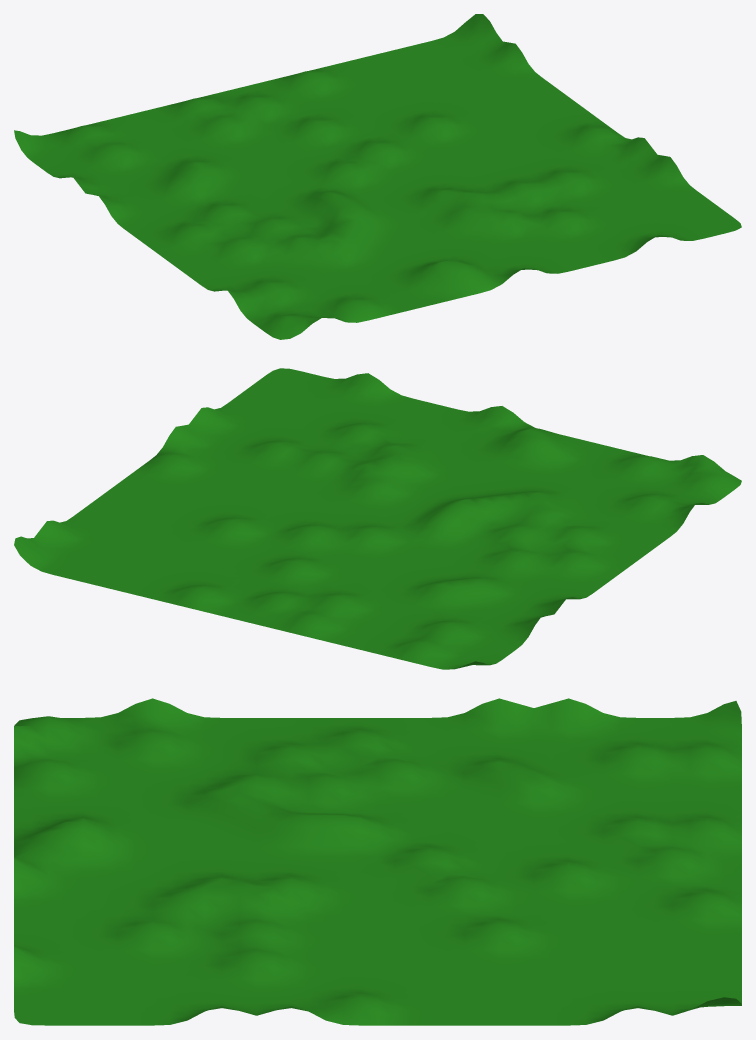
3 views of the same model, one above another, from view 1: azimuth 30°, elevation 25°; view 2: azimuth 150°, elevation 25°; view 3: azimuth 270°, elevation 25° (orthographic). The views are drawn at different scales.
Parts seen in each view (by area): view 1: Plane; view 2: Plane; view 3: Plane.
Boxes of the visible parts, x1,y1,x2,y2 form: Plane: (14, 14, 741, 339); Plane: (14, 368, 741, 669); Plane: (14, 698, 741, 1025).
Size of the model in its own units: 200 by 8.49 by 200.
